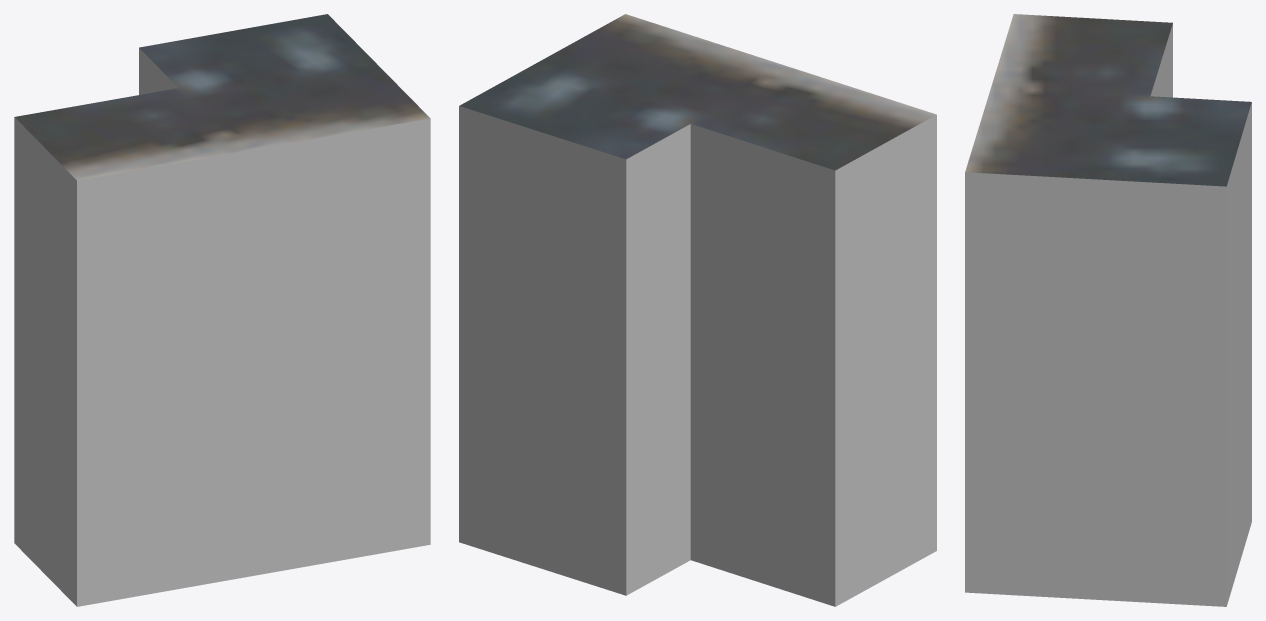
Rendered from DEBW_0010007Tx5m.gltf.
3 views of the same model, side by side, from view 1: azimuth 30°, elevation 25°; view 2: azimuth 150°, elevation 25°; view 3: azimuth 270°, elevation 25° (orthographic). The views are drawn at different scales.
Parts seen in each view (by area): view 1: Z_UP; view 2: Z_UP; view 3: Z_UP.
Boxes of the visible parts, <box> form: Z_UP: <box>14,14,430,606</box>; Z_UP: <box>459,14,936,606</box>; Z_UP: <box>965,14,1251,606</box>.
Bounding box in the file's own units: 6.48 × 7.36 × 4.55.
Materials: 2 (1 with a texture image).
